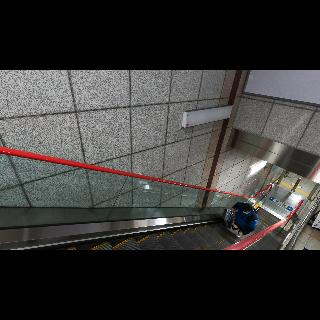normal: (231, 200, 259, 240)
